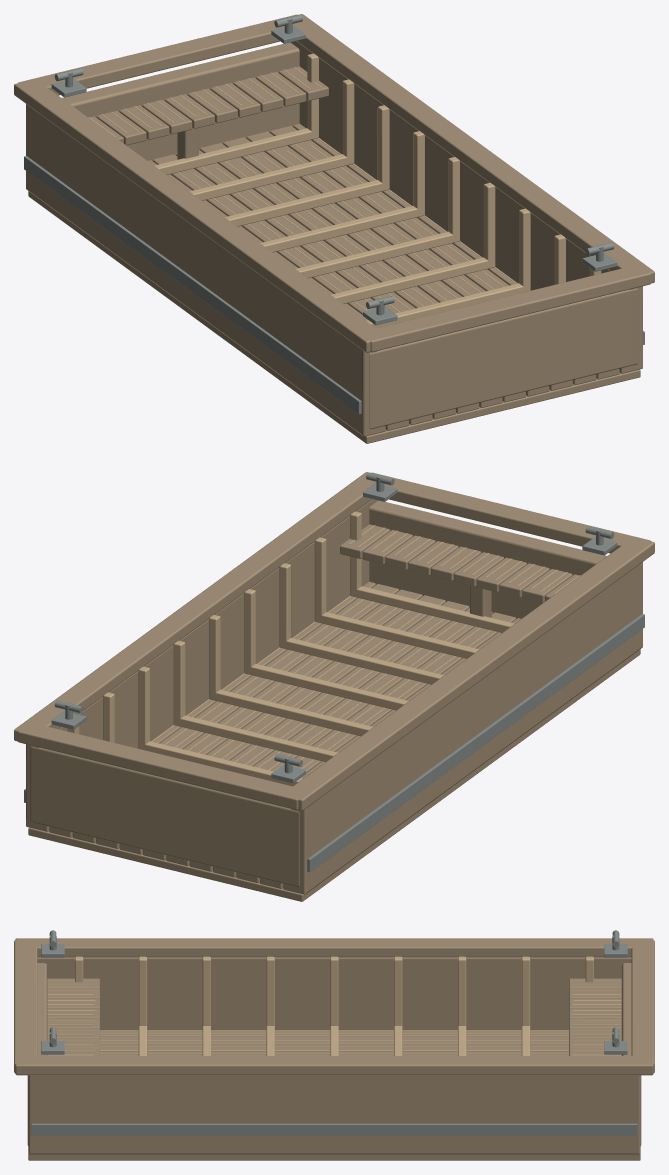
File: coastal-saltworks-and-trade-port-coastal-saltworks-and-46b34a87__31407.glb
3 views of the same model, one above another, from view 1: azimuth 30°, elevation 25°; view 2: azimuth 150°, elevation 25°; view 3: azimuth 270°, elevation 25° (orthographic). The views are drawn at different scales.
Parts seen in each view (by area): view 1: coastal-saltworks-and-trade-port-shallow-salt-cargo-barge; view 2: coastal-saltworks-and-trade-port-shallow-salt-cargo-barge; view 3: coastal-saltworks-and-trade-port-shallow-salt-cargo-barge.
Part boxes in pixels (bbox=[...]): coastal-saltworks-and-trade-port-shallow-salt-cargo-barge: bbox=[14, 14, 654, 443]; coastal-saltworks-and-trade-port-shallow-salt-cargo-barge: bbox=[14, 472, 654, 901]; coastal-saltworks-and-trade-port-shallow-salt-cargo-barge: bbox=[14, 930, 654, 1160].
Bounding box in the file's own units: 2.32 × 0.9848 × 4.92.
